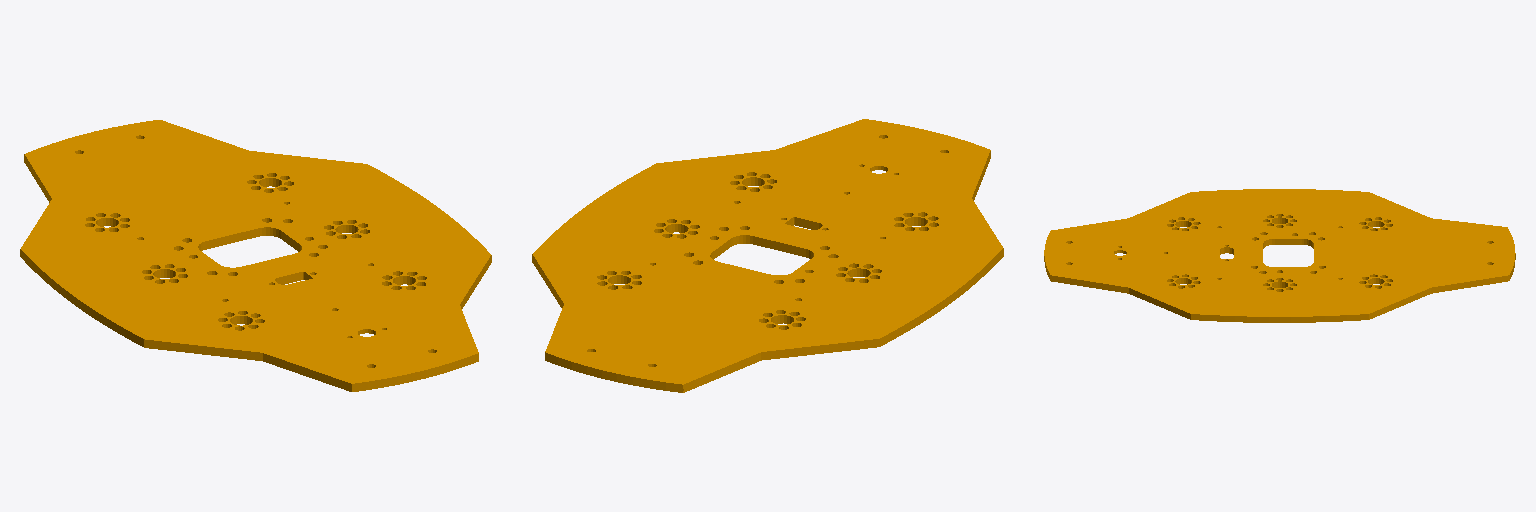
URDF robot description (Unsaved):
<?xml version="1.0" ?>
<!-- =================================================================================== -->
<!-- |    This document was autogenerated by xacro from mekanik.xacro                  | -->
<!-- |    EDITING THIS FILE BY HAND IS NOT RECOMMENDED                                 | -->
<!-- =================================================================================== -->
<robot name="Unsaved">
  <link name="base_link">
    <inertial>
      <origin rpy="0 0 0" xyz="-0.19746407988610123 -0.0009856645725541252 0.0019991575681639496"/>
      <mass value="1.0611890733724223"/>
      <inertia ixx="0.005091" ixy="1.5e-05" ixz="-0.0" iyy="0.002126" iyz="-1e-06" izz="0.007214"/>
    </inertial>
    <visual>
      <origin rpy="0 0 0" xyz="0 0 0"/>
      <geometry>
        <mesh filename="base_link.stl" scale="0.001 0.001 0.001"/>
      </geometry>
      <material name="silver"/>
    </visual>
    <collision>
      <origin rpy="0 0 0" xyz="0 0 0"/>
      <geometry>
        <mesh filename="base_link.stl" scale="0.001 0.001 0.001"/>
      </geometry>
    </collision>
  </link>
</robot>

--- Render facts (derived) ---
3 views of the same robot in one strip: view 1: azimuth 30°, elevation 25°; view 2: azimuth 150°, elevation 25°; view 3: azimuth 270°, elevation 25° (orthographic).
Robot: Unsaved — 1 links, 0 joints (none); root link base_link; default pose: all joints at 0.
Visible links, largest first — view 1: base_link; view 2: base_link; view 3: base_link.
Link boxes in pixels (x1=…): base_link: x1=20, y1=120, x2=491, y2=391; base_link: x1=532, y1=119, x2=1003, y2=392; base_link: x1=1044, y1=189, x2=1515, y2=322.
Size in the robot's own frame: 0.18 by 0.28 by 0.004 metres.
1 mesh visuals loaded from 1 distinct referenced files (1 binary STL).
